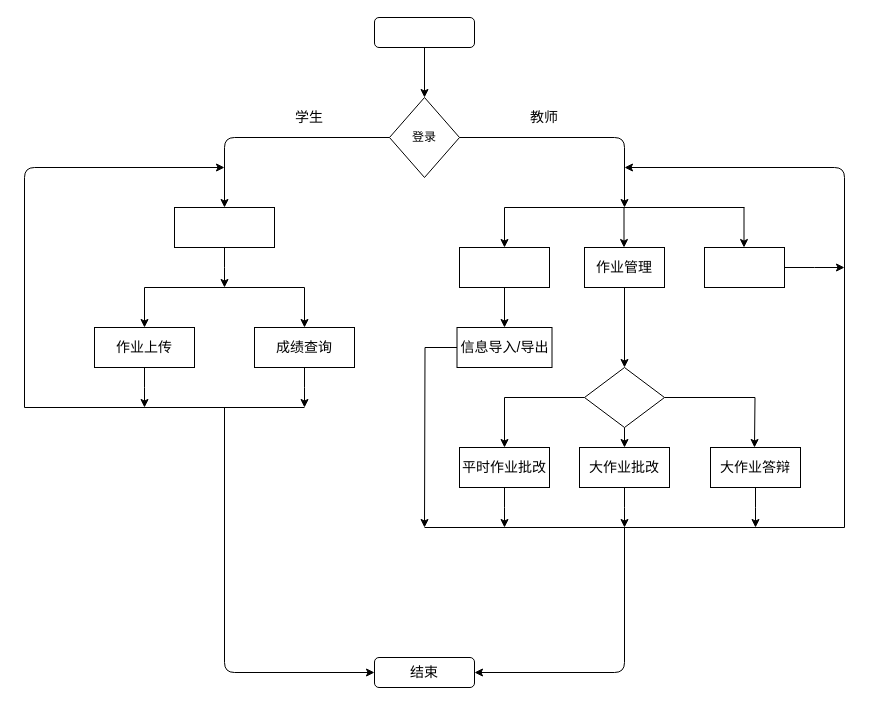
The diagram is 870 pixels wide and 705 high, and some of its shapes have lost their labels. Here are the shapes that lost their labels. From the top down, the centre of each, then its label:
the point at 424,32: 开始
the point at 224,227: 课程选择
the point at 504,267: 学生管理
the point at 744,267: 课程管理
the point at 624,397: 评分
